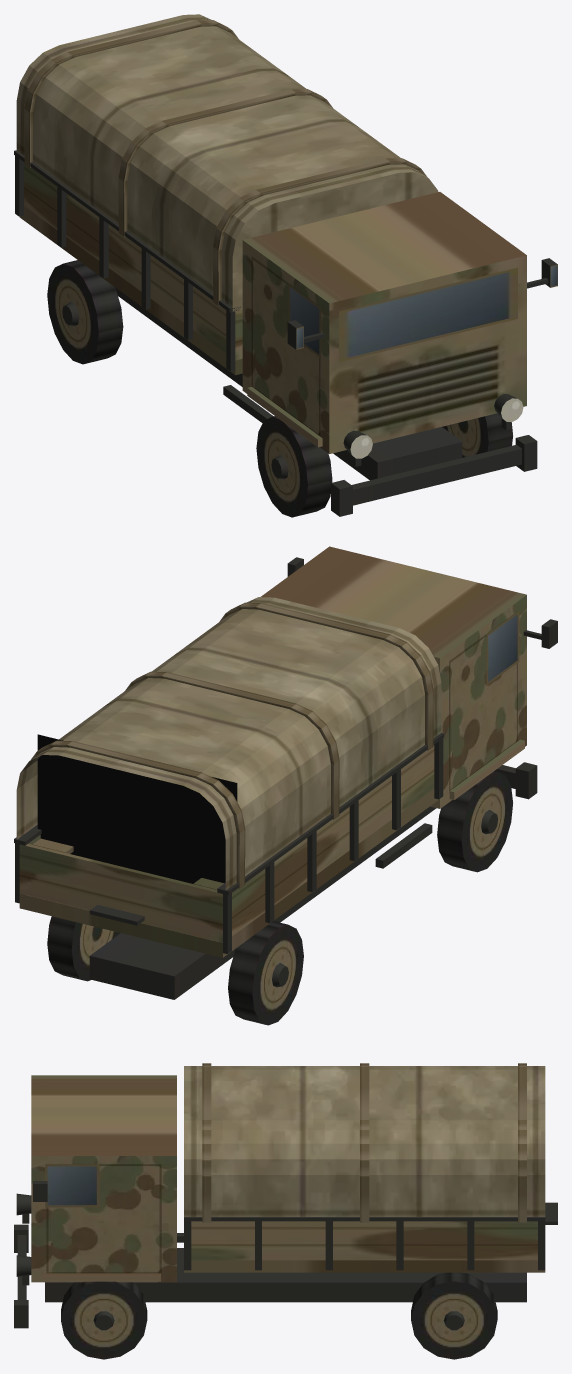
File: landTransport.glb
3 views of the same model, one above another, from view 1: azimuth 30°, elevation 25°; view 2: azimuth 150°, elevation 25°; view 3: azimuth 270°, elevation 25° (orthographic). The views are drawn at different scales.
Visible parts, largest first — view 1: body, tarp, roue_right_2, roue_right_1, roue_left_1; view 2: tarp, body, fond_sombre, tailgate, roue_right_2, roue_right_1, roue_left_2; view 3: body, tarp, roue_left_2, roue_left_1.
Part boxes in pixels (x1=…): body: x1=14, y1=150, x2=557, y2=516; tarp: x1=16, y1=14, x2=438, y2=311; roue_right_2: x1=47, y1=260, x2=123, y2=364; roue_right_1: x1=256, y1=416, x2=332, y2=517; roue_left_1: x1=442, y1=413, x2=512, y2=457; tarp: x1=16, y1=597, x2=441, y2=890; body: x1=14, y1=546, x2=557, y2=999; fond_sombre: x1=37, y1=734, x2=237, y2=883; tailgate: x1=19, y1=844, x2=222, y2=942; roue_right_2: x1=228, y1=921, x2=303, y2=1025; roue_right_1: x1=437, y1=771, x2=512, y2=872; roue_left_2: x1=47, y1=916, x2=120, y2=981; body: x1=14, y1=1075, x2=545, y2=1328; tarp: x1=184, y1=1063, x2=545, y2=1222; roue_left_2: x1=411, y1=1272, x2=497, y2=1359; roue_left_1: x1=61, y1=1281, x2=147, y2=1359.
Bounding box in the file's own units: 2.78 × 2.72 × 5.98.
Materials: 8 (7 with a texture image).
